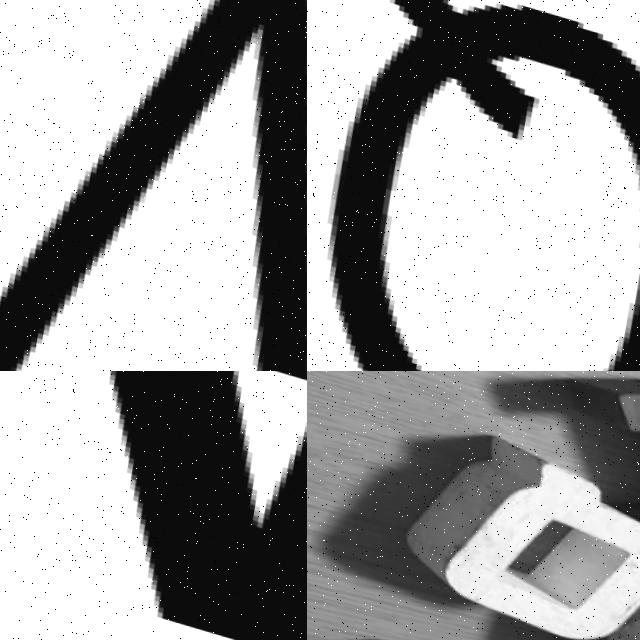A: (0, 371, 307, 640)
P: (582, 517, 640, 640)
Q: (307, 0, 640, 371), (397, 400, 640, 640)
V: (0, 0, 307, 371)
